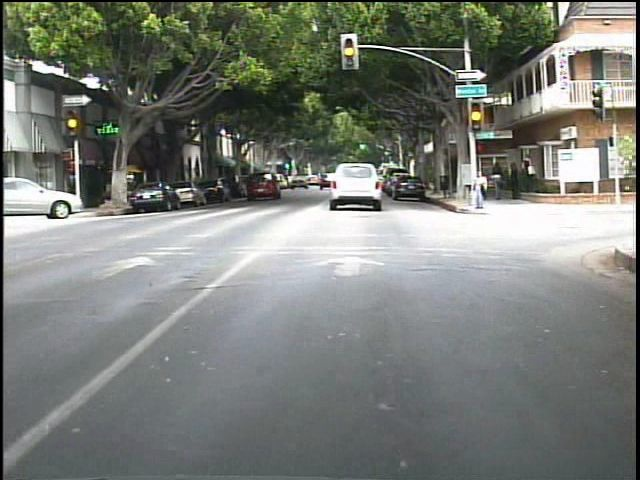person: (468, 166, 490, 213), (520, 153, 537, 192), (492, 161, 508, 202), (508, 162, 523, 204)
